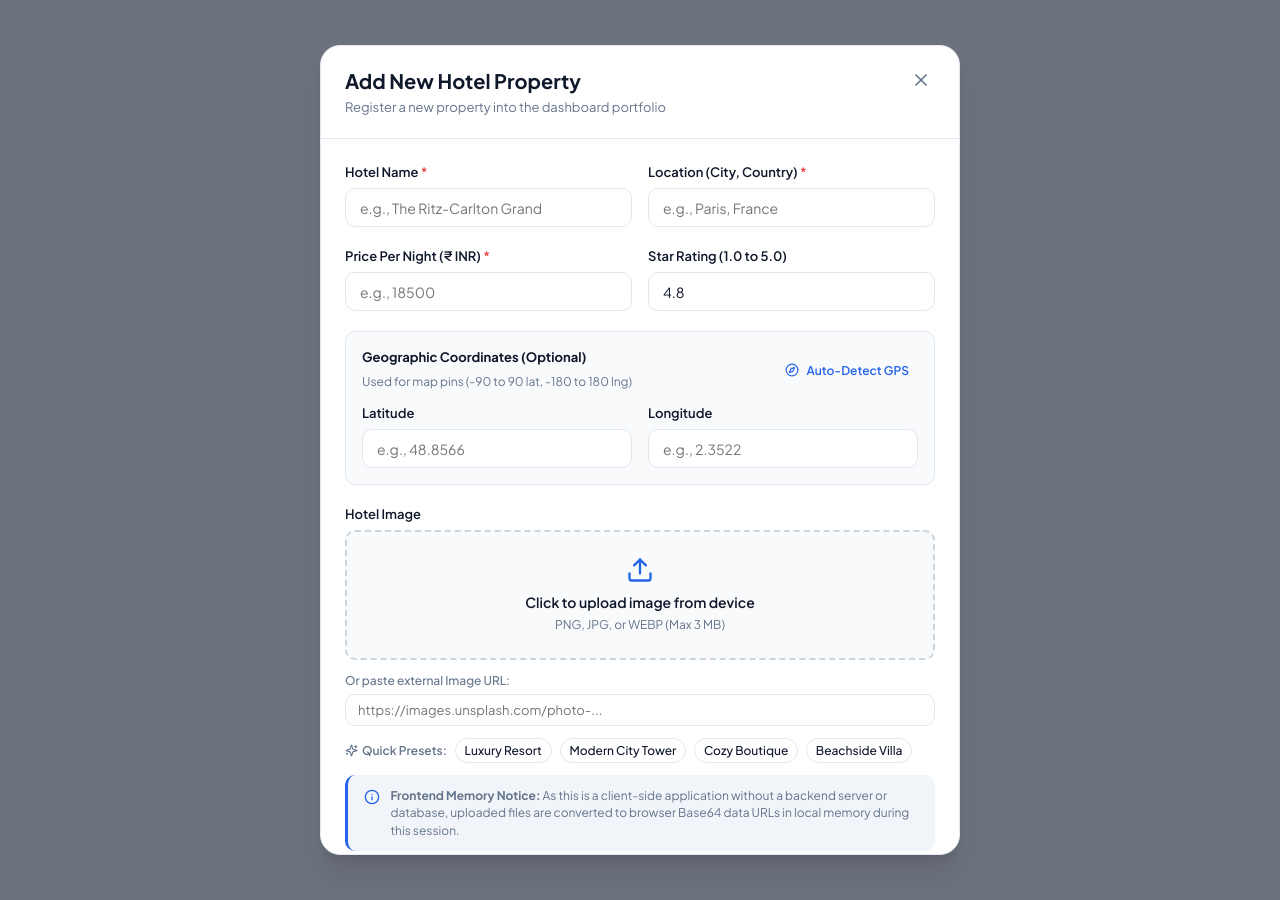
it: HotelForm Component › validates latitude bounds between -90 and 90
Type "Valid Hotel" into the field labelled "Hotel Name" at [488, 208], box [345,188,632,227]
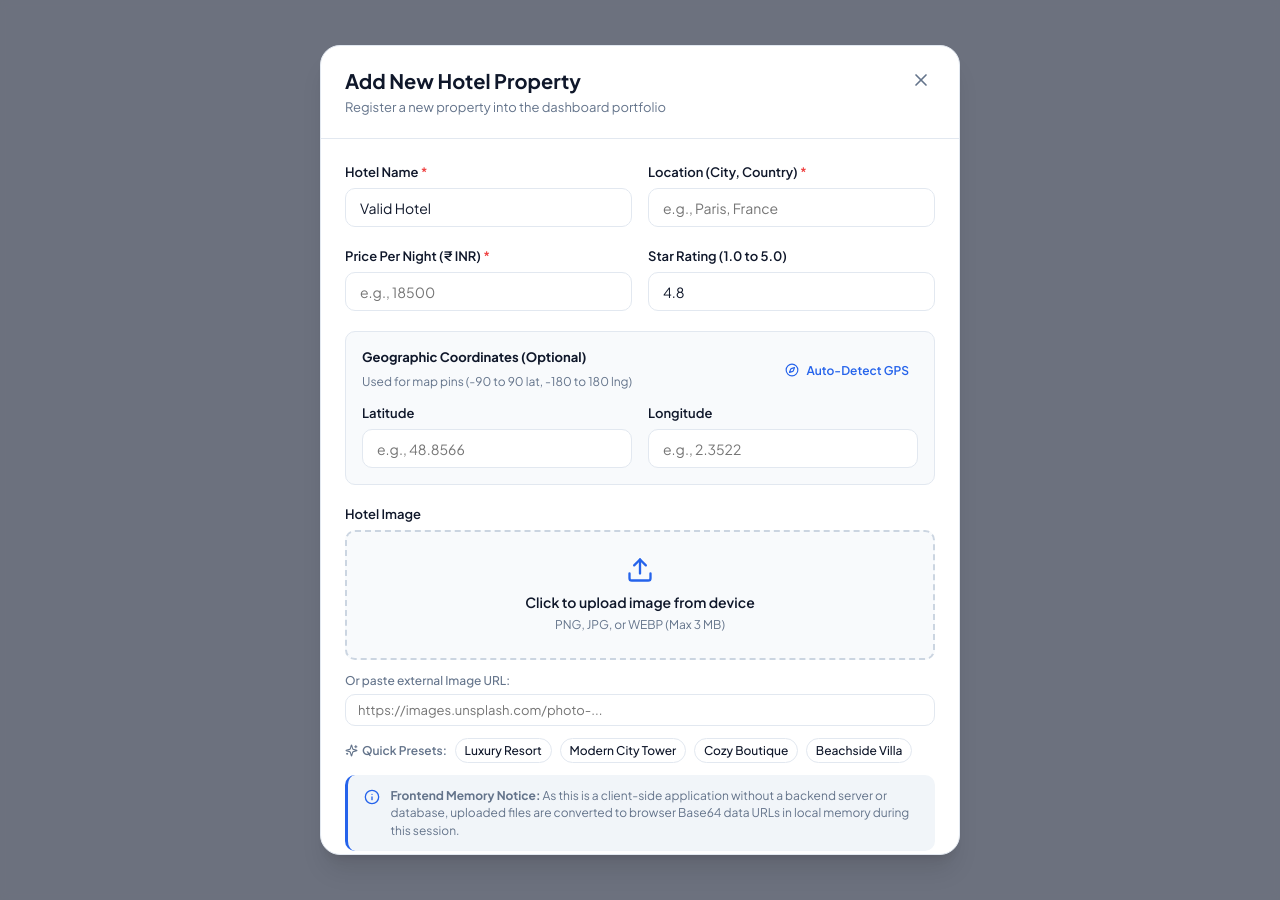
Type "London, UK" into the field labelled "Location (City, Country)" at [792, 208], box [648,188,935,227]
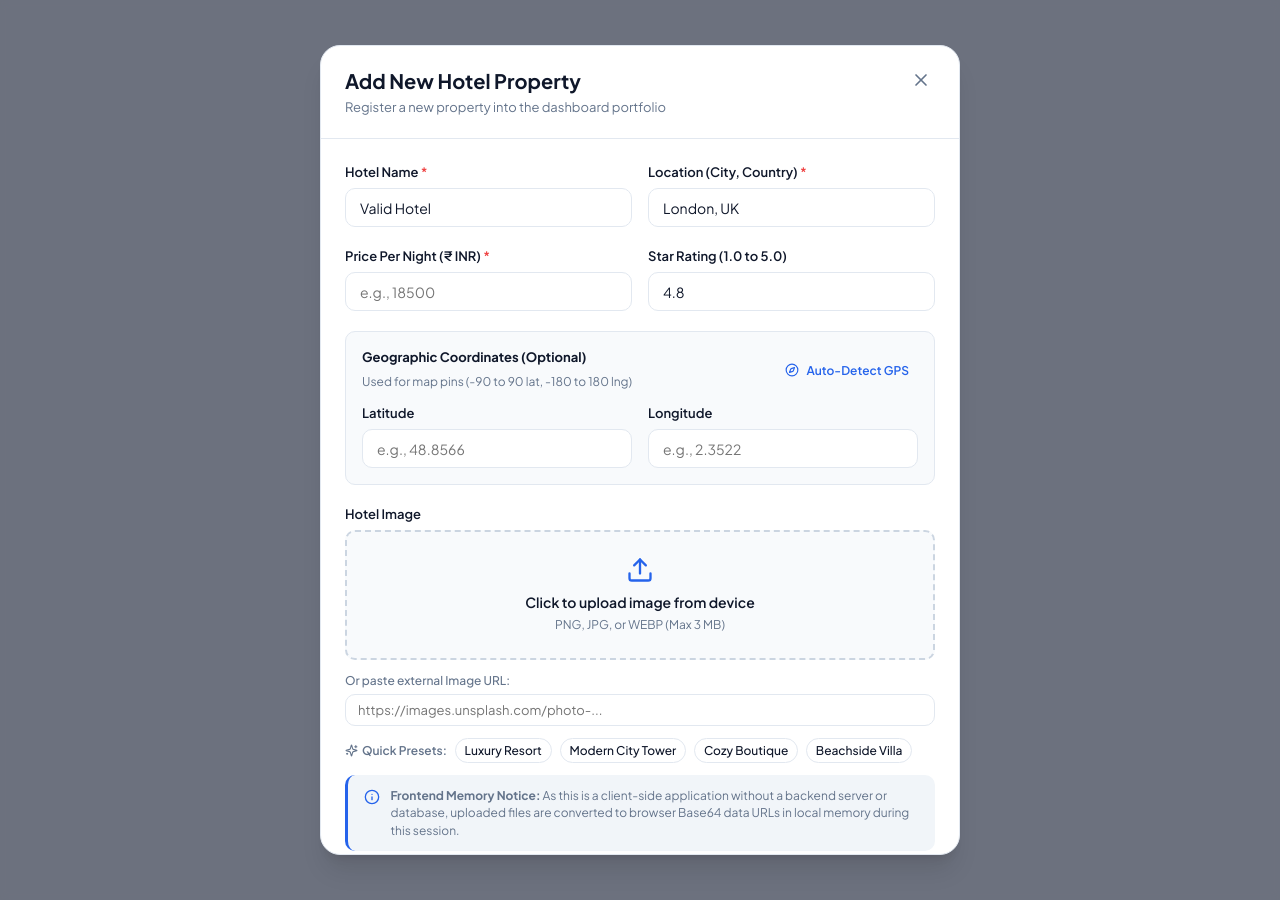
Type "250" into the number field labelled "Price Per Night (₹ INR)" at [488, 292], box [345,272,632,312]
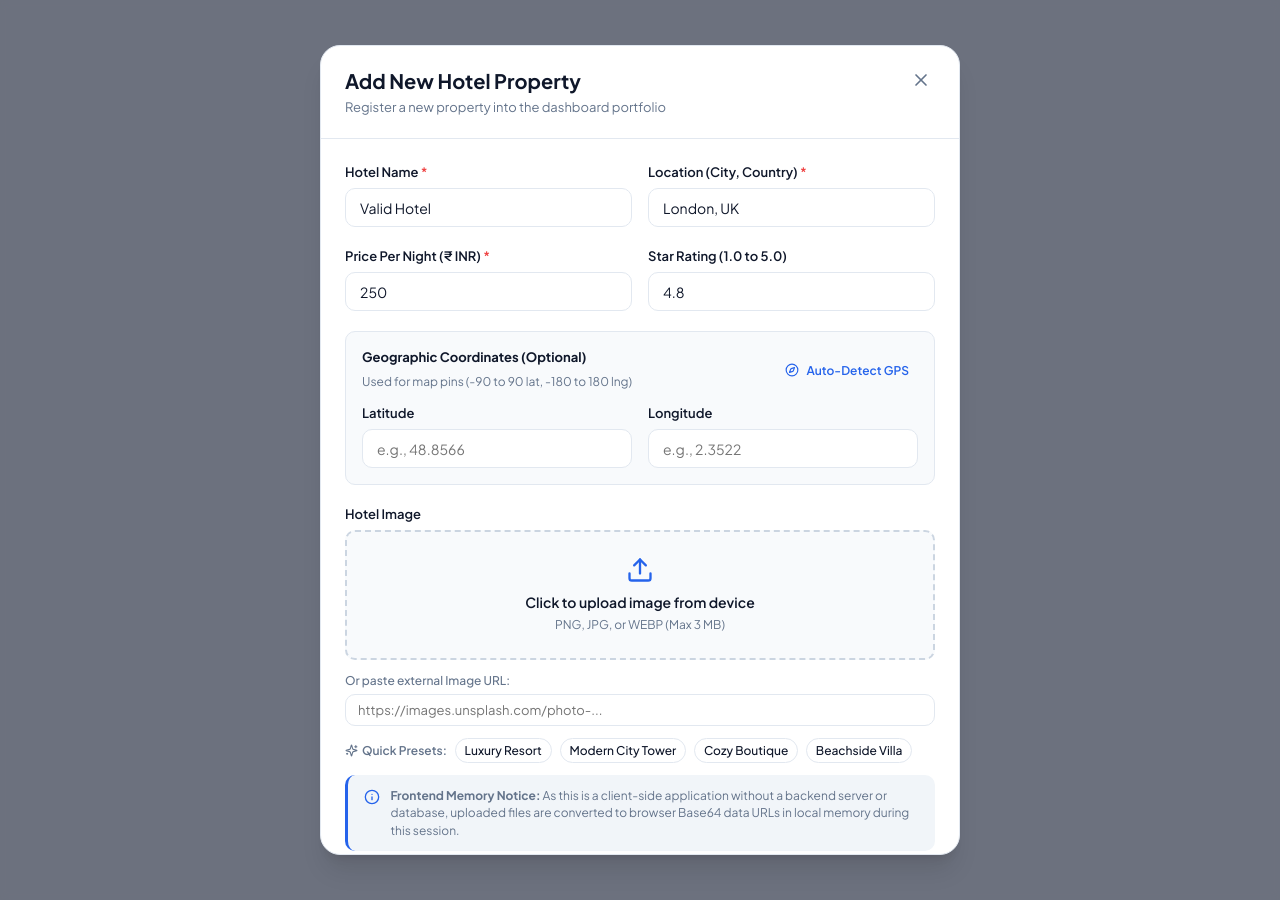
Type "150" into the number field labelled "Latitude" at [497, 449], box [362,429,632,468]
(page scrolled)
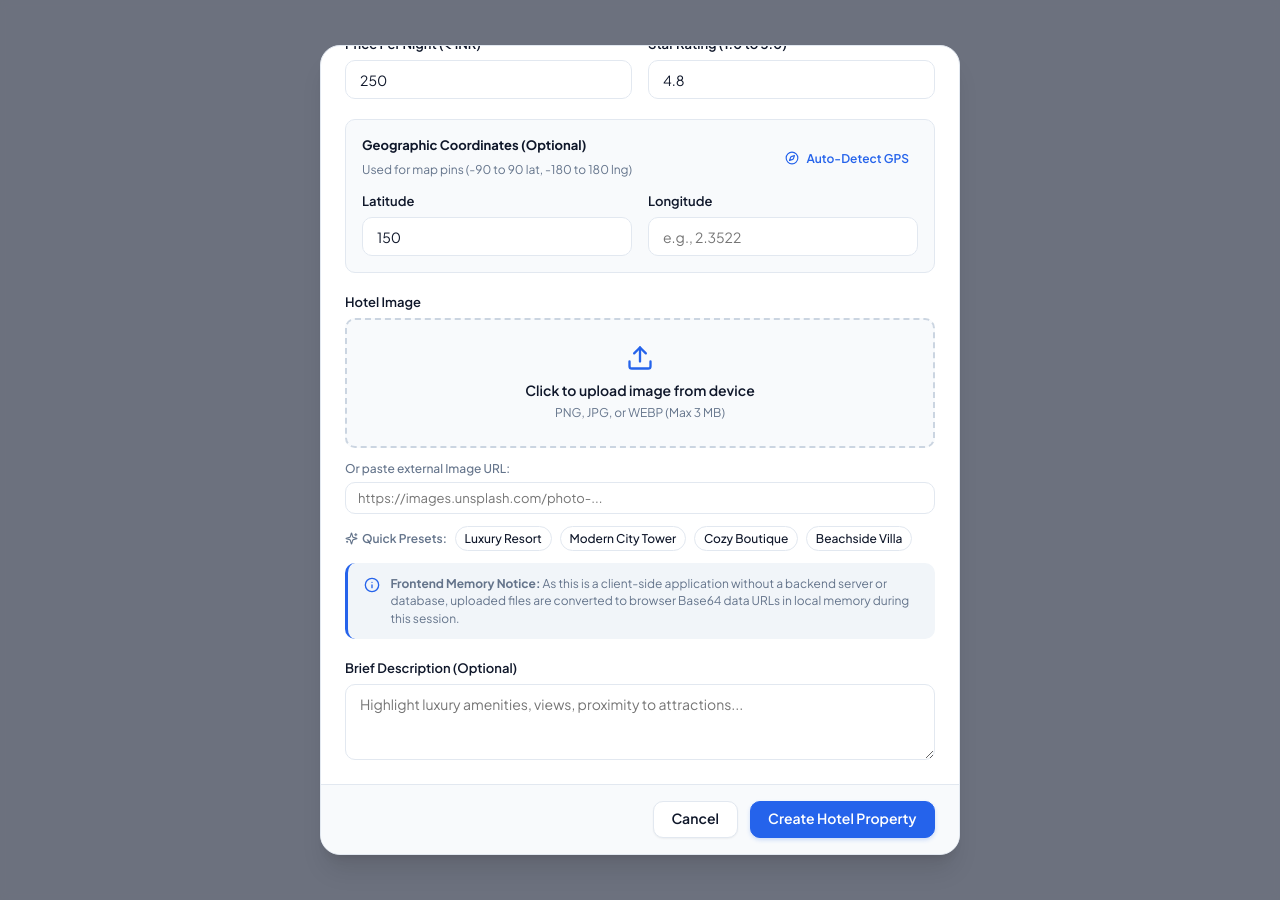
Click the button "Create Hotel Property" at [842, 819], box [750,800,935,838]
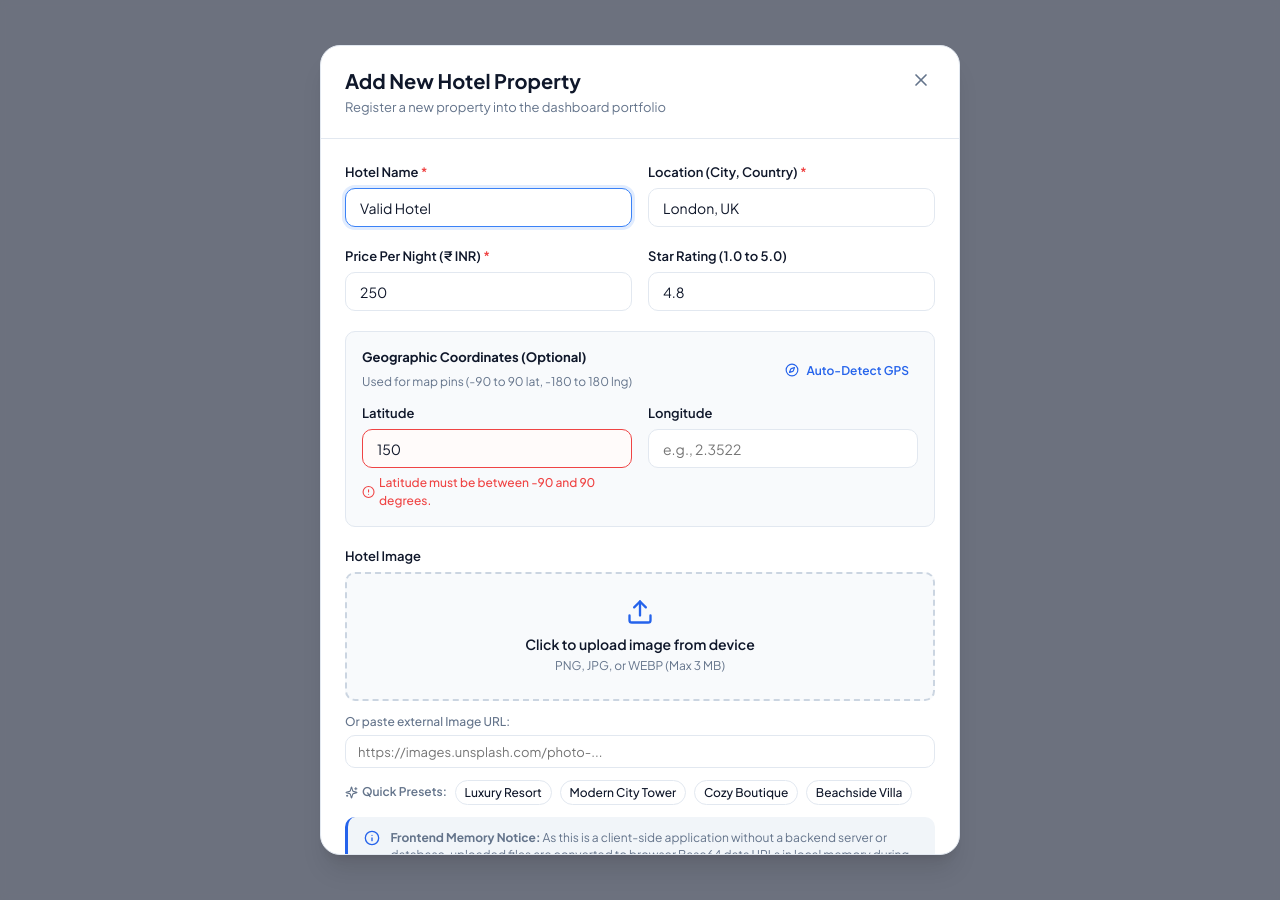
Expected: the text "Latitude must be between -90 and 90 degrees." is shown, [362,474,632,510]
